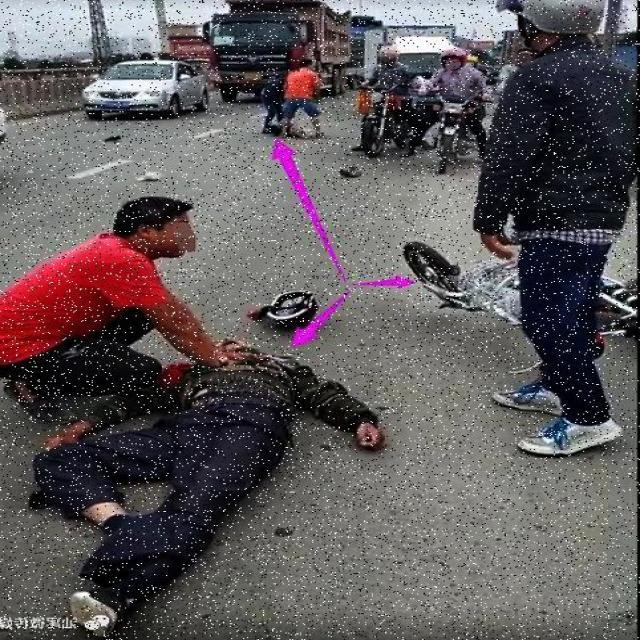fall: (57, 340, 333, 620)
